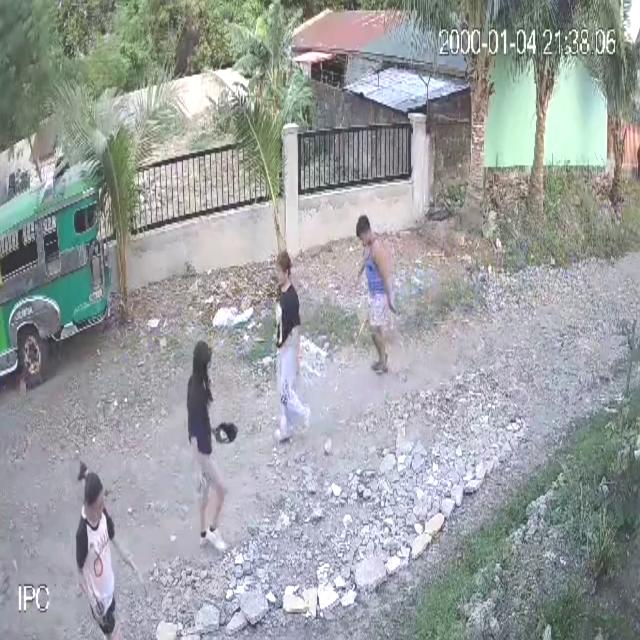walking: (72, 457, 152, 640), (181, 337, 241, 558), (262, 247, 318, 460), (350, 209, 402, 385)
